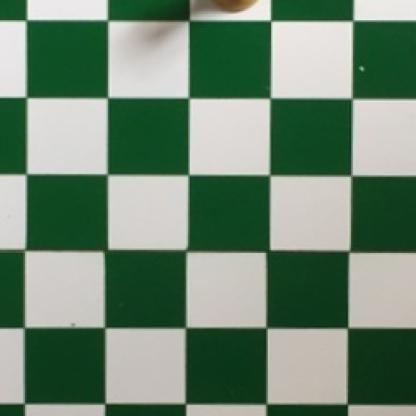white-queen: (198, 0, 266, 14)
